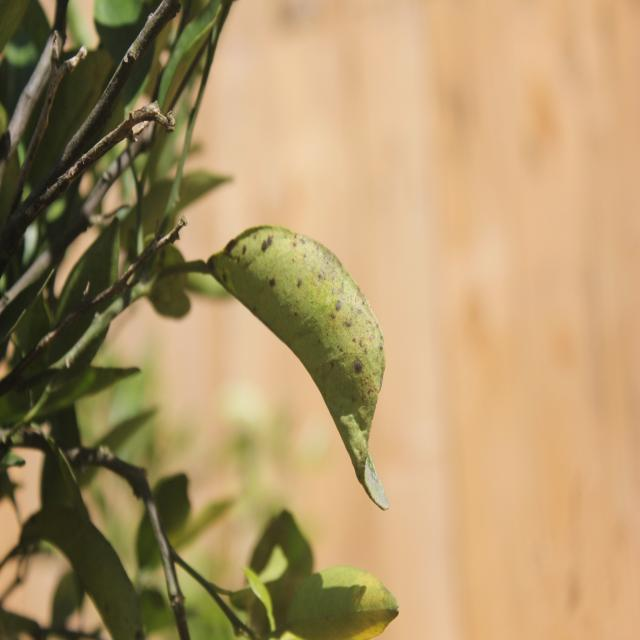melanose: (206, 206, 404, 514)
